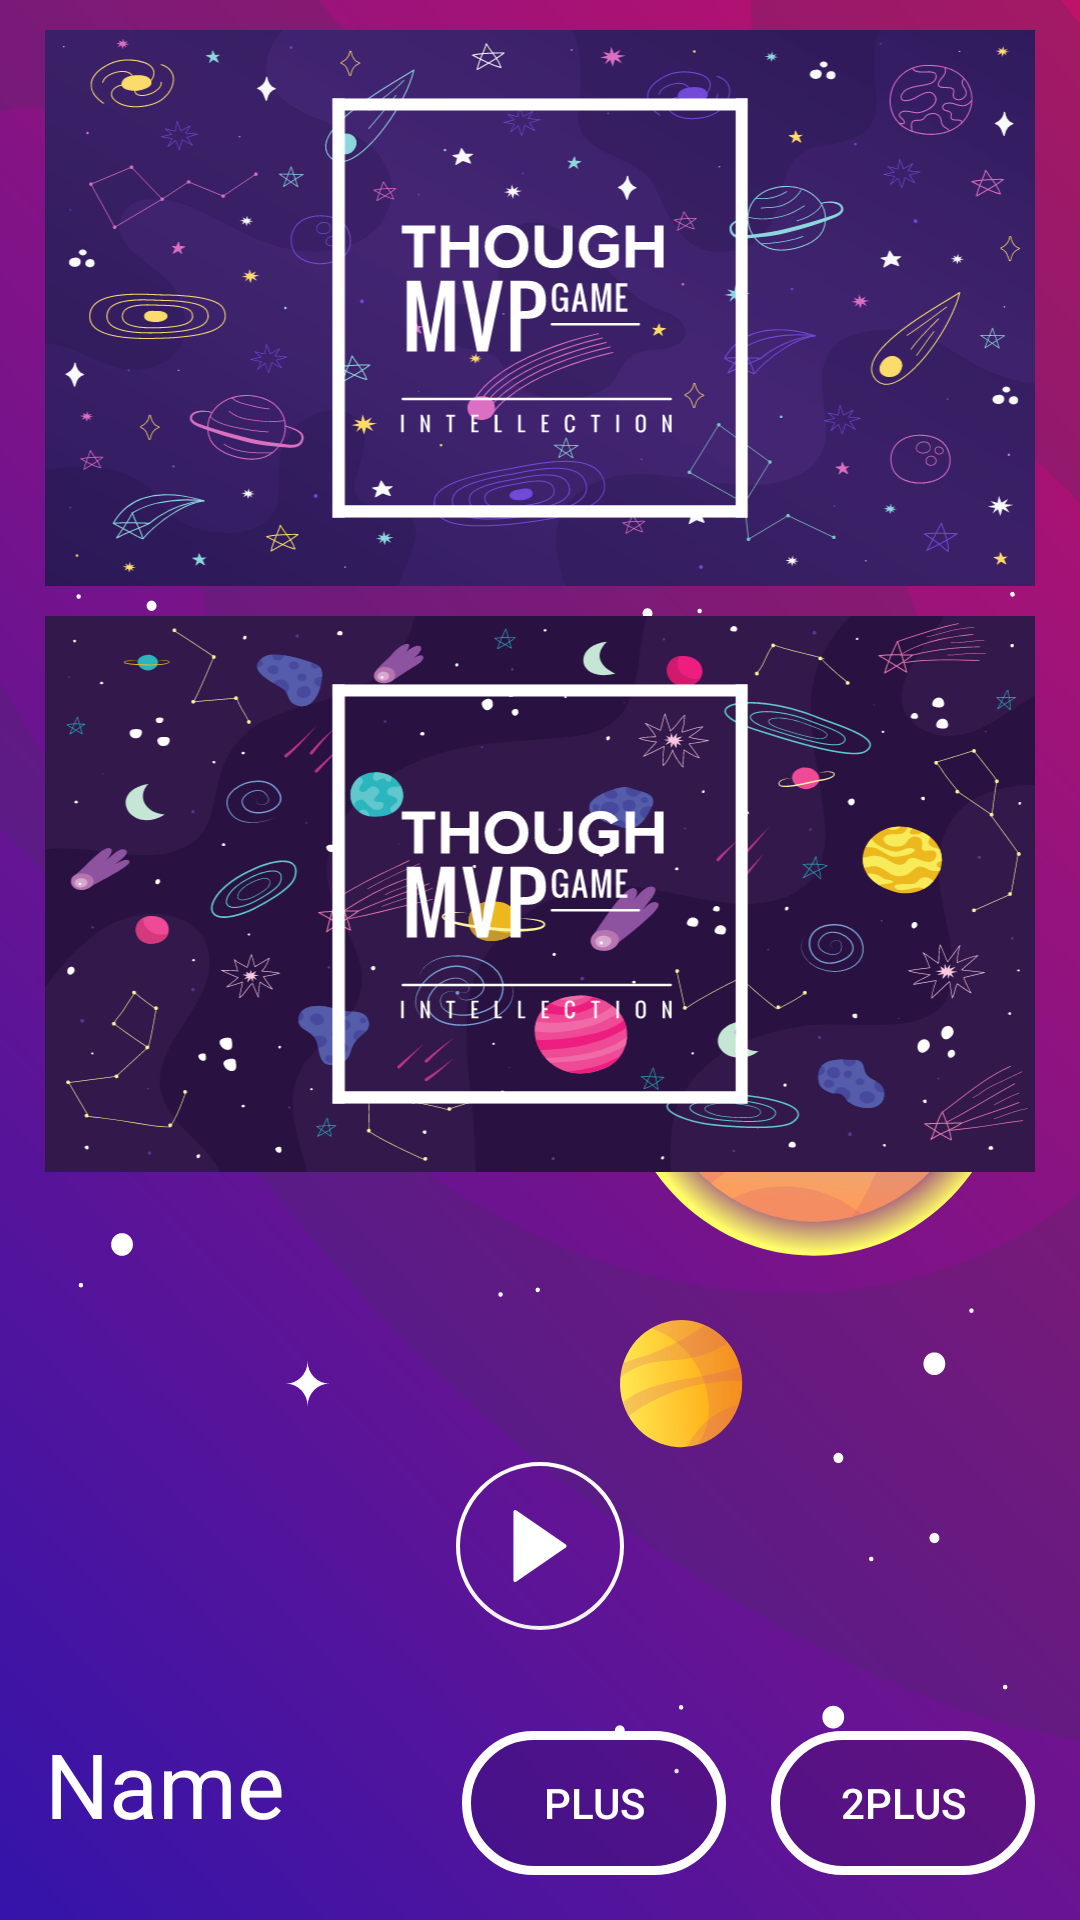

Where icons sit on this 1080px x 1920px app screen, as (x1, y1, x2, y2):
playbutton: (456, 1462, 624, 1630)
